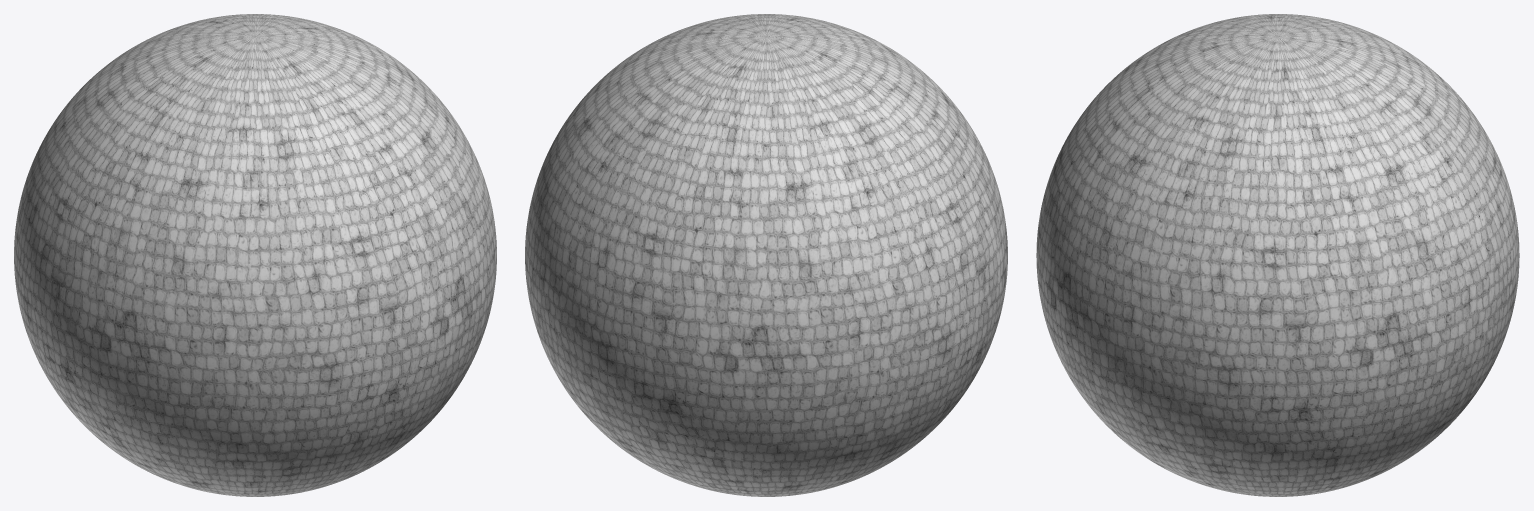
Rendered from crocodile.gltf.
The picture shows the model from 3 angles, left to right: view 1: azimuth 30°, elevation 25°; view 2: azimuth 150°, elevation 25°; view 3: azimuth 270°, elevation 25°; orthographic projection.
Visible parts, largest first — view 1: sphere_gltf; view 2: sphere_gltf; view 3: sphere_gltf.
Boxes of the visible parts, x1,y1,x2,y2 form: sphere_gltf: (14,14,496,496); sphere_gltf: (525,14,1007,496); sphere_gltf: (1036,14,1519,496).
Bounding box in the file's own units: 0.6 × 0.6 × 0.6.
Materials: 1 (1 with a texture image).
